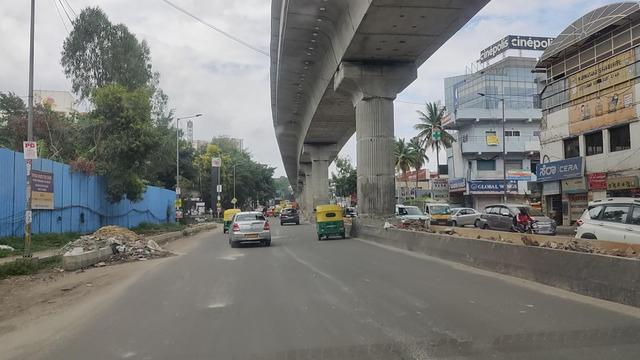LMV: (227, 209, 272, 252), (314, 204, 346, 241)
